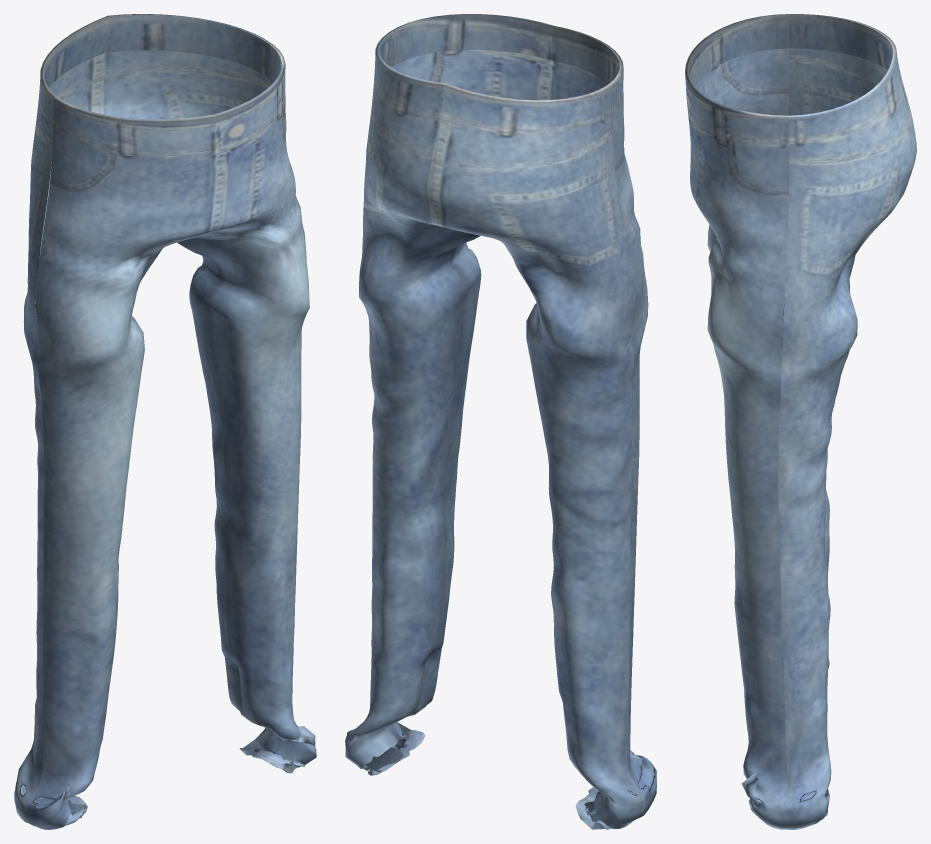
The model's file is hose.glb.
3 renders of one model, left to right at view 1: azimuth 30°, elevation 25°; view 2: azimuth 150°, elevation 25°; view 3: azimuth 270°, elevation 25°, orthographic. The views are drawn at different scales.
Visible parts, largest first — view 1: Hose 1; view 2: Hose 1; view 3: Hose 1.
Boxes of the visible parts, box(x1,y1,x2,y2) form: Hose 1: box(14, 14, 316, 829); Hose 1: box(345, 14, 656, 829); Hose 1: box(685, 14, 916, 829).
Size of the model in its own units: 0.392 by 0.9784 by 0.2867.
Materials: 1 (1 with a texture image).
